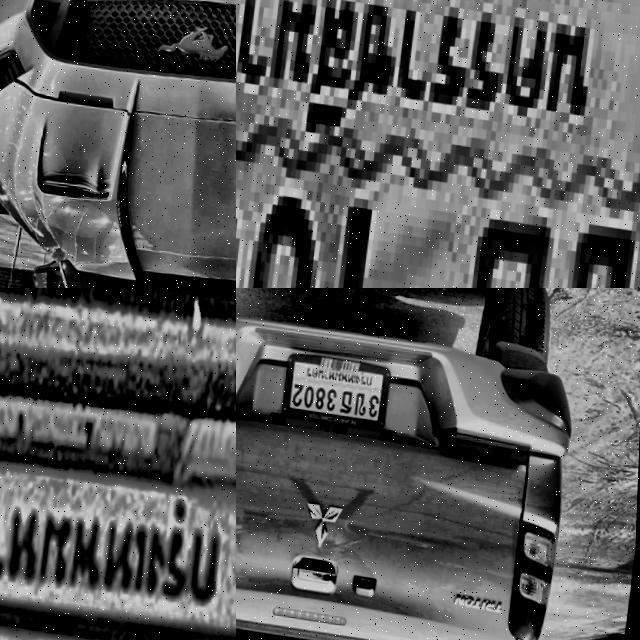license-plate: (236, 0, 640, 288), (0, 333, 236, 640), (279, 345, 391, 423)
